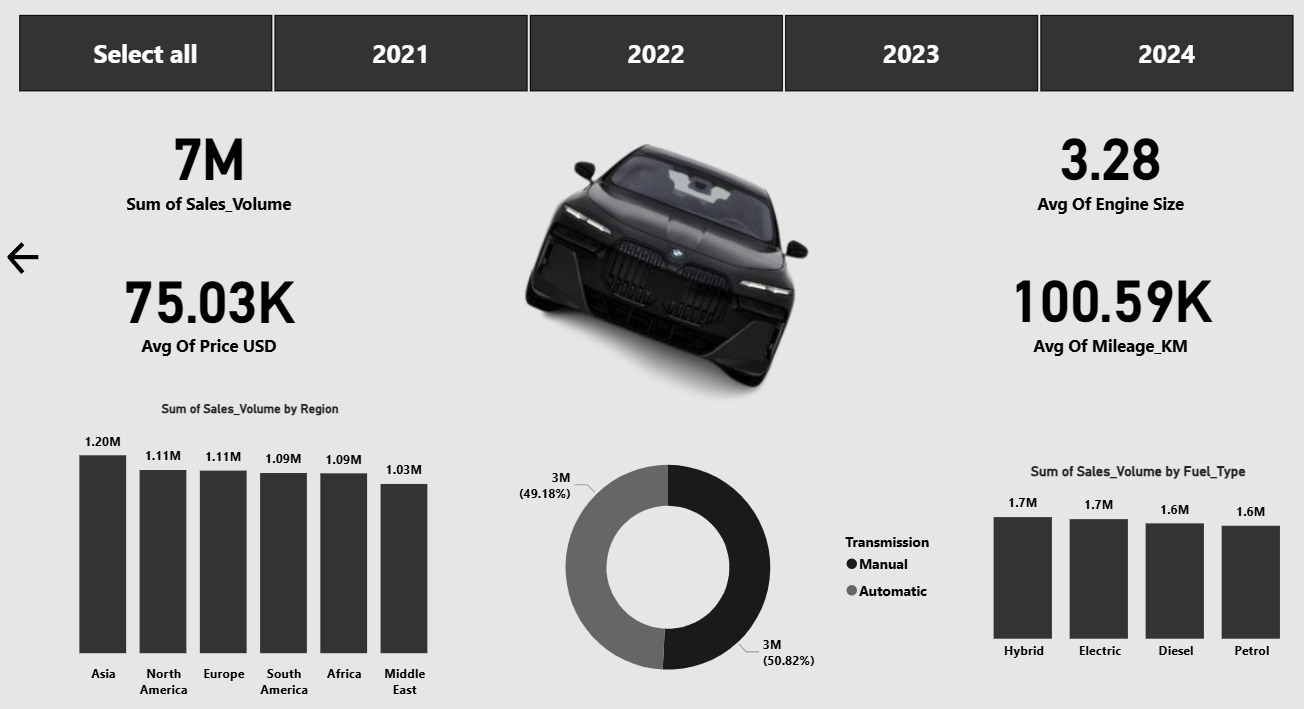

The page's visual inventory and layout, read from the dashboard file:
{"tool":"powerbi","page":{"name":"7 Series","canvas":[1280,720],"ordinal":6},"visuals":[{"type":"slicer","fields":{"Values":["BMW_Car_Sales_Classification.Year"]},"box":[0,21.7,1280,88.1],"z":0},{"type":"donutChart","fields":{"Category":["BMW_Car_Sales_Classification.Transmission"],"Y":["Sum(BMW_Car_Sales_Classification.Sales_Volume)"]},"box":[476.5,415,456,294.4],"z":1000},{"type":"card","fields":{"Values":["Sum(BMW_Car_Sales_Classification.Sales_Volume)"]},"box":[36.2,114.6,346.2,115.8],"z":2000},{"type":"card","fields":{"Values":["BMW_Car_Sales_Classification.Avg Of Price"]},"box":[36.2,250.9,346.2,118.2],"z":3000},{"type":"card","fields":{"Values":["BMW_Car_Sales_Classification.Avg Of Engine Size"]},"box":[903.6,114.6,352.3,115.8],"z":4000},{"type":"card","fields":{"Values":["BMW_Car_Sales_Classification.Avg Of Mileage_KM"]},"box":[903.6,243.7,352.3,131.5],"z":5000},{"type":"columnChart","fields":{"Category":["BMW_Car_Sales_Classification.Region"],"Y":["Sum(BMW_Car_Sales_Classification.Sales_Volume)"]},"box":[48.3,401.7,401.7,294.4],"z":6000},{"type":"columnChart","fields":{"Category":["BMW_Car_Sales_Classification.Fuel_Type"],"Y":["Sum(BMW_Car_Sales_Classification.Sales_Volume)"]},"box":[932.6,462.1,347.5,199.1],"z":7000},{"type":"image","box":[416.2,109.8,516.4,347.5],"z":8000},{"type":"actionButton","box":[10.9,243.7,73.6,39.8],"z":9000}]}

Visuals, with their boxes on the page's 1280x720 design canvas (x1, y1, x2, y2). These are canvas units, not pixel positions in the 1304x709 screenshot, which may show the page scaled, cropped or inside an application window:
slicer - BMW_Car_Sales_Classification.Year: BBox(0, 22, 1280, 110)
donutChart - BMW_Car_Sales_Classification.Transmission x Sum(BMW_Car_Sales_Classification.Sales_Volume): BBox(476, 415, 932, 709)
card - Sum(BMW_Car_Sales_Classification.Sales_Volume): BBox(36, 115, 382, 230)
card - BMW_Car_Sales_Classification.Avg Of Price: BBox(36, 251, 382, 369)
card - BMW_Car_Sales_Classification.Avg Of Engine Size: BBox(904, 115, 1256, 230)
card - BMW_Car_Sales_Classification.Avg Of Mileage_KM: BBox(904, 244, 1256, 375)
columnChart - BMW_Car_Sales_Classification.Region x Sum(BMW_Car_Sales_Classification.Sales_Volume): BBox(48, 402, 450, 696)
columnChart - BMW_Car_Sales_Classification.Fuel_Type x Sum(BMW_Car_Sales_Classification.Sales_Volume): BBox(933, 462, 1280, 661)
image: BBox(416, 110, 933, 457)
actionButton: BBox(11, 244, 84, 284)
